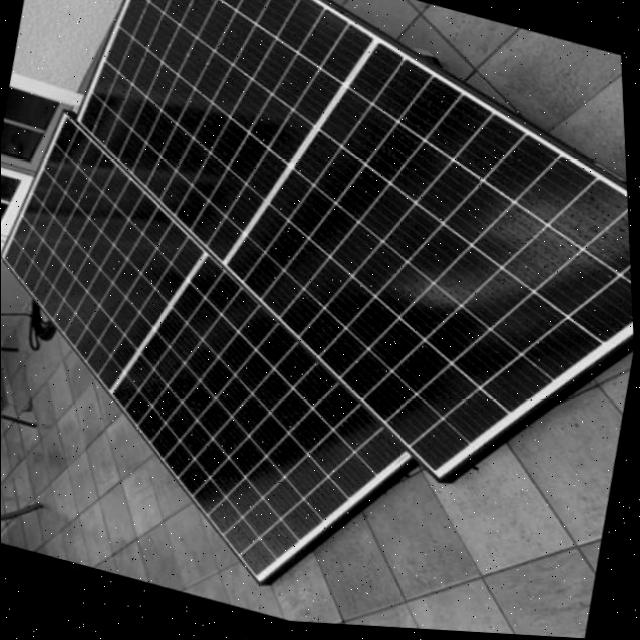Normal Solar Panel: (26, 0, 640, 526), (0, 112, 470, 624)
